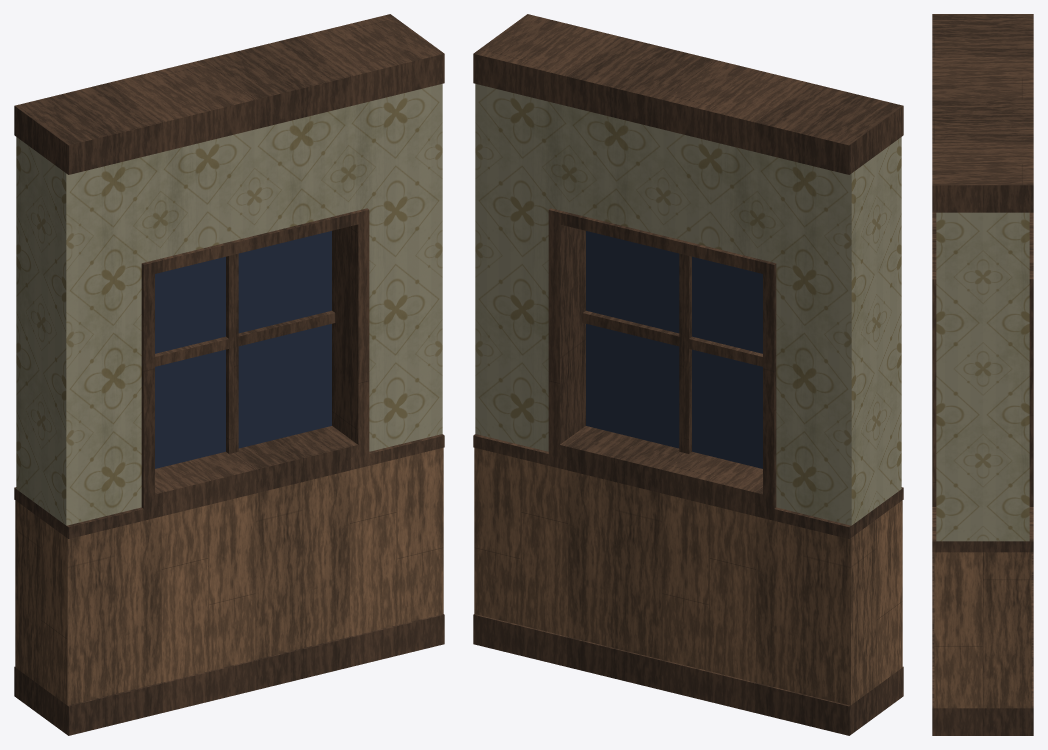
File: EST_MuroVentana.fbx
3 renders of one model, left to right at view 1: azimuth 30°, elevation 25°; view 2: azimuth 150°, elevation 25°; view 3: azimuth 270°, elevation 25°, orthographic. The views are drawn at different scales.
Parts seen in each view (by area): view 1: EST_MuroVentana; view 2: EST_MuroVentana; view 3: EST_MuroVentana.
Boxes of the visible parts, box(x1,y1,x2,y2) form: EST_MuroVentana: box(14, 14, 444, 735); EST_MuroVentana: box(473, 14, 903, 735); EST_MuroVentana: box(932, 14, 1033, 735).
Bounding box in the file's own units: 2 × 3 × 0.5.
